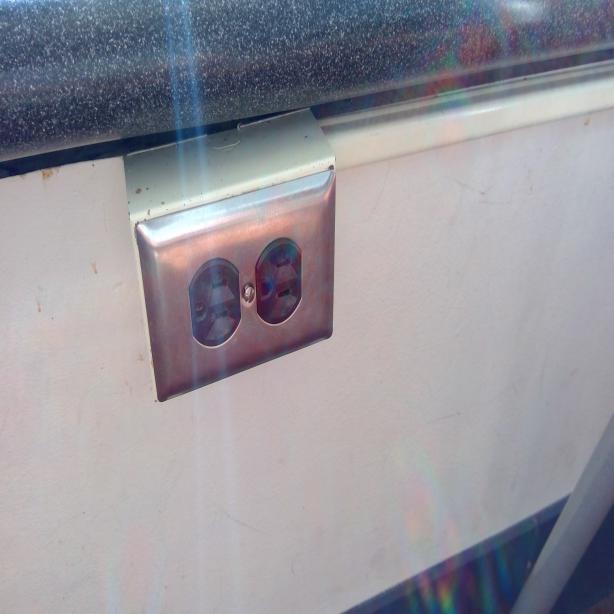typeb: (252, 243, 302, 324), (187, 268, 239, 344)
